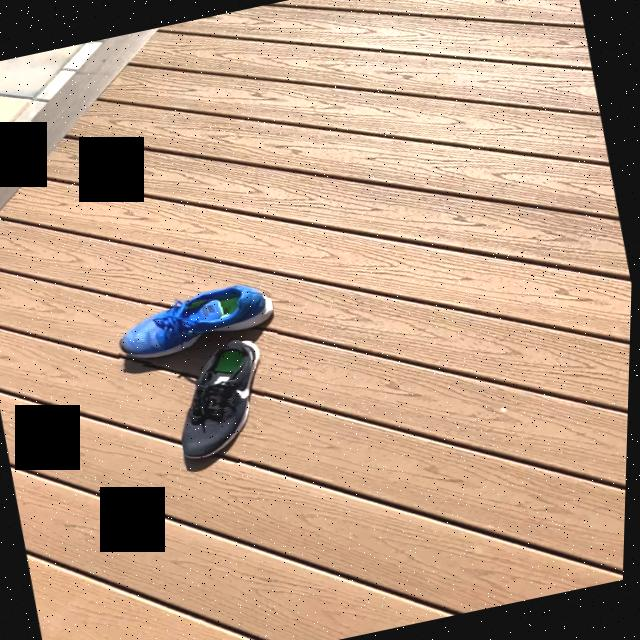shoe: (120, 287, 276, 364), (184, 344, 261, 472)
